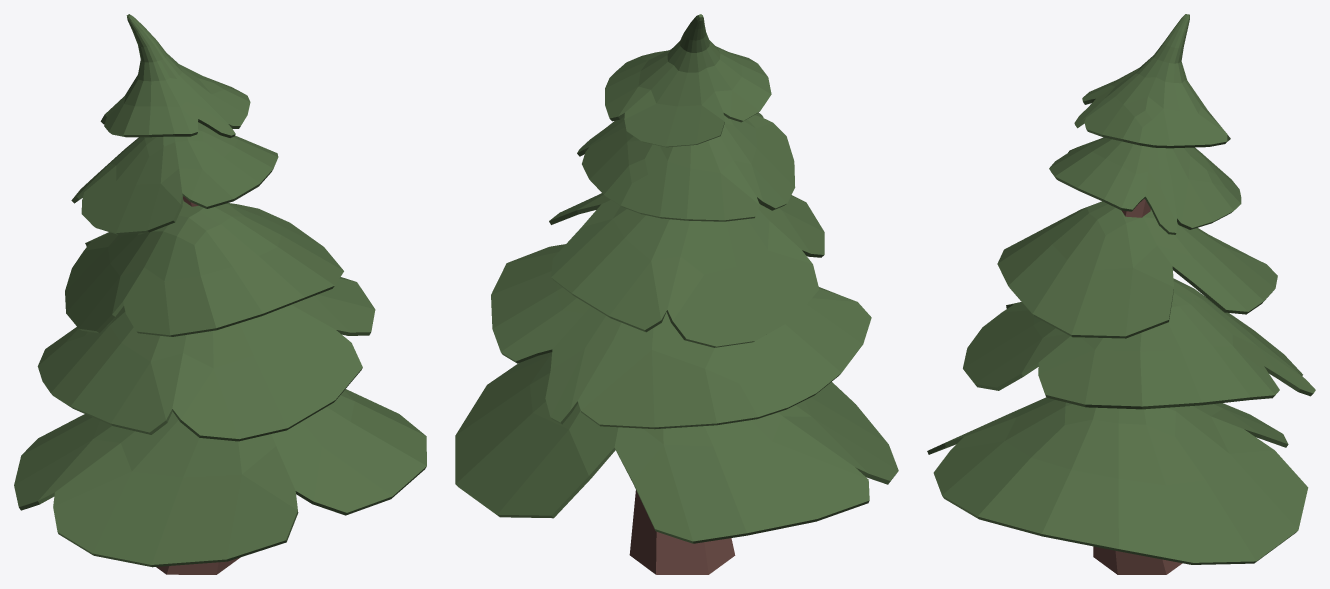
Rendered from PineTree_1.glb.
3 renders of one model, left to right at view 1: azimuth 30°, elevation 25°; view 2: azimuth 150°, elevation 25°; view 3: azimuth 270°, elevation 25°, orthographic. The views are drawn at different scales.
Visible parts, largest first — view 1: PineTree_1; view 2: PineTree_1; view 3: PineTree_1.
Boxes of the visible parts, x1=… form: PineTree_1: x1=14, y1=14, x2=426, y2=574; PineTree_1: x1=455, y1=14, x2=898, y2=574; PineTree_1: x1=927, y1=14, x2=1315, y2=574.
Size of the model in its own units: 1.96 by 2.7 by 1.82.
